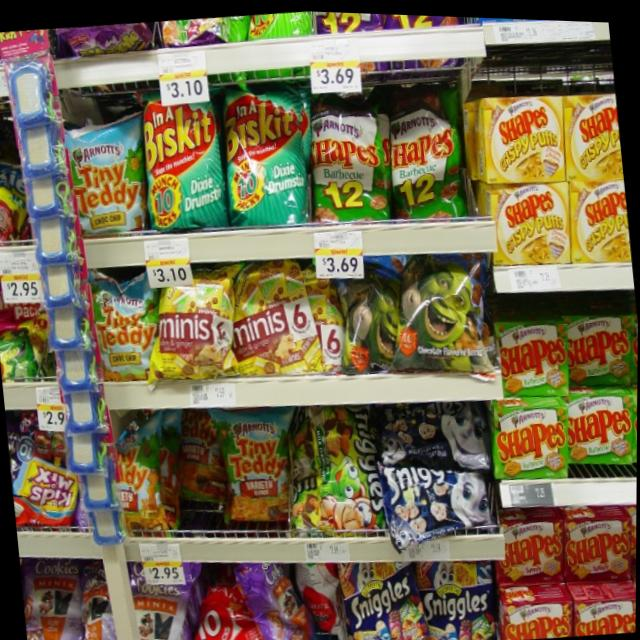q58: (217, 74, 318, 228), (138, 89, 233, 233)
